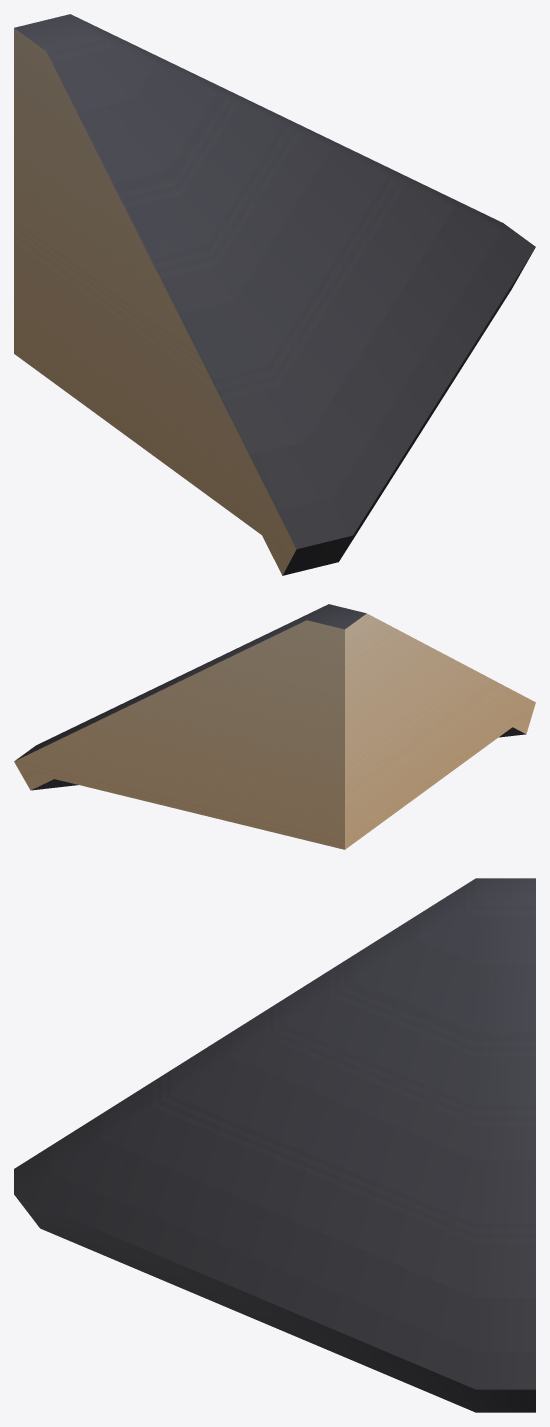
File: roof-slanted-corner-b.glb
The picture shows the model from 3 angles, top to bottom: view 1: azimuth 30°, elevation 25°; view 2: azimuth 150°, elevation 25°; view 3: azimuth 270°, elevation 25°; orthographic projection. The views are drawn at different scales.
Visible parts, largest first — view 1: roof-slanted-corner-b; view 2: roof-slanted-corner-b; view 3: roof-slanted-corner-b.
Boxes of the visible parts, bbox=[...] form: roof-slanted-corner-b: bbox=[14, 14, 535, 575]; roof-slanted-corner-b: bbox=[14, 604, 535, 849]; roof-slanted-corner-b: bbox=[14, 878, 535, 1412].
Bounding box in the file's own units: 1.14 × 0.782 × 1.14.
1 material, 1 textured.
